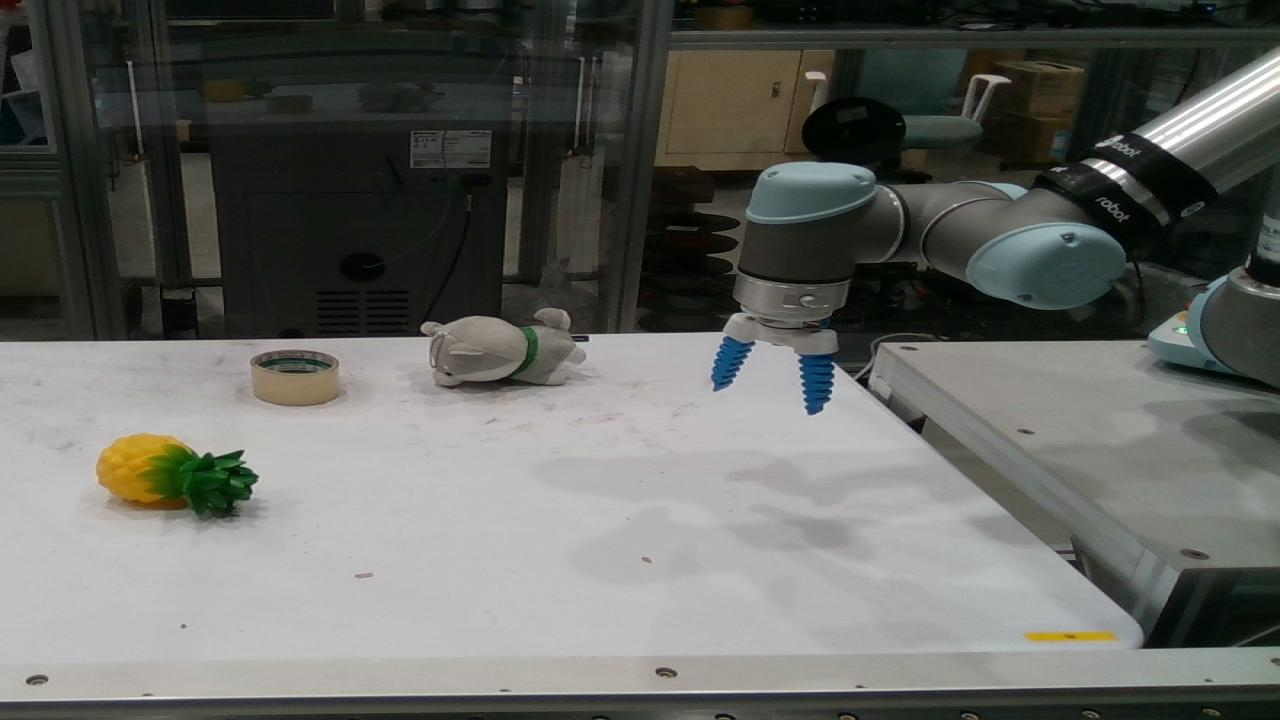UR5: (722, 42, 1279, 390)
gripper_left: (712, 336, 753, 391)
gripper_right: (800, 353, 834, 415)
target: (95, 433, 260, 518), (421, 308, 587, 388), (250, 349, 340, 405)
